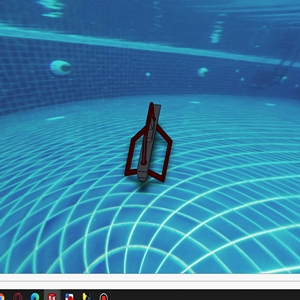submarine: (113, 106, 185, 174)
